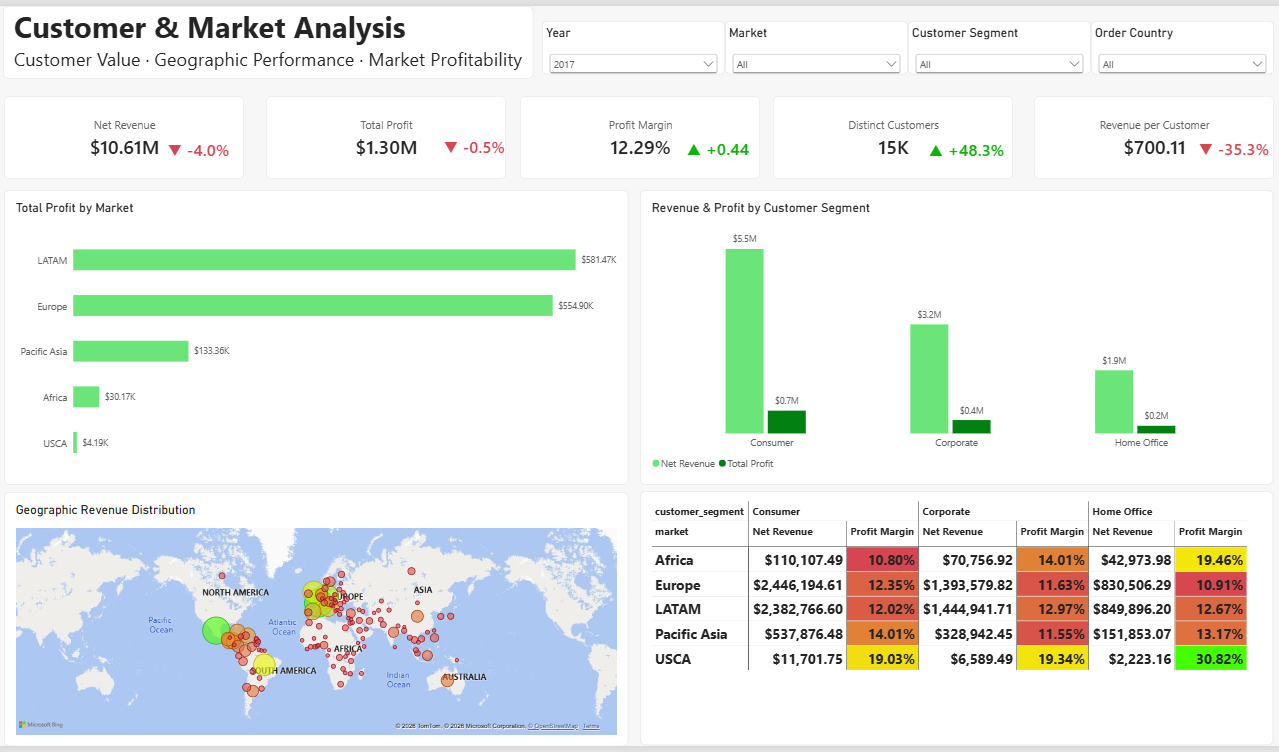

The dashboard page shown, as its layout file describes it:
{"tool":"powerbi","page":{"name":"Customer & Market Analysis","canvas":[1920,1080],"ordinal":4},"visuals":[{"type":"slicer","title":"Year","fields":{"Values":["dim_date.year","dim_date.month_name"]},"box":[835,21.7,266.7,78.3],"z":0},{"type":"slicer","title":"Market","fields":{"Values":["dim_category.category_name"]},"box":[1101.7,21.7,266.7,78.3],"z":1000},{"type":"slicer","title":"Customer Segment","fields":{"Values":["dim_department.department_name"]},"box":[1368.3,21.7,266.7,78.3],"z":2000},{"type":"slicer","title":"Order Country","fields":{"Values":["dim_product.product_name"]},"box":[1635,21.7,266.7,78.3],"z":3000},{"type":"textbox","box":[48,0,774,106],"z":4000},{"type":"cardVisual","fields":{"Data":["_measures.Profit Margin"]},"box":[802.9,131.8,350,121.7],"z":5000,"group":"g4"},{"type":"cardVisual","fields":{"Data":["_measures.Distinct Customers"]},"box":[1172.2,131.8,350,121.7],"z":5000},{"type":"group","id":"g1","title":"Group 6","box":[432.2,130.8,351.1,121.8],"z":6000,"group":"g3"},{"type":"cardVisual","fields":{"Data":["_measures.Total Profit"]},"box":[432.2,130.8,350,121.7],"z":6000,"group":"g1"},{"type":"cardVisual","fields":{"Data":["_measures.Revenue per Customer"]},"box":[1552.2,131.8,350,121.7],"z":6000},{"type":"cardVisual","fields":{"Data":["_measures.Profit Margin YoY"]},"box":[1045.9,177.4,106.3,60.7],"z":6000,"group":"g4"},{"type":"cardVisual","fields":{"Data":["_measures.Net Revenue"]},"box":[49,131.8,350,121.7],"z":7000,"group":"g2"},{"type":"cardVisual","fields":{"Data":["_measures.Distinct Customers YoY"]},"box":[1399.6,177.1,122.3,61.1],"z":7000},{"type":"group","id":"g2","title":"Group 1","box":[49,131.8,349.4,121.1],"z":8000},{"type":"cardVisual","fields":{"Data":["_measures.Total Profit YoY"]},"box":[692,173.4,108.3,60],"z":8000,"group":"g3"},{"type":"group","id":"g3","title":"Group 2","box":[432.2,130.8,368.2,121.8],"z":9000},{"type":"group","id":"g4","title":"Group 3","box":[802.9,131.8,349.4,121.1],"z":10000},{"type":"cardVisual","fields":{"Data":["_measures.Net Revenue YoY"]},"box":[287.6,178.2,108.3,60],"z":10000,"group":"g2"},{"type":"cardVisual","fields":{"Data":["_measures.Revenue per Customer YoY"]},"box":[1793.6,176.4,106.3,60.7],"z":11000},{"type":"clusteredBarChart","title":"Total Profit by Market","fields":{"Y":["_measures.Total Profit"],"Category":["dim_destination.market"]},"box":[49,268.9,911,430.2],"z":12000},{"type":"clusteredColumnChart","title":"Revenue & Profit by Customer Segment","fields":{"Category":["dim_customer.customer_segment"],"Y":["_measures.Net Revenue","_measures.Total Profit"]},"box":[977.4,268.9,923.6,430.2],"z":13000},{"type":"map","title":"Geographic Revenue Distribution","fields":{"Category":["dim_destination.order_country"],"Size":["_measures.Total Sales"]},"box":[49,709,911,371],"z":14000},{"type":"pivotTable","fields":{"Rows":["dim_destination.market"],"Values":["_measures.Net Revenue","_measures.Profit Margin"],"Columns":["dim_customer.customer_segment"]},"box":[978,708,924,371],"z":15000}]}

Visuals, with their boxes on the page's 1920x1080 design canvas (x1, y1, x2, y2). These are canvas units, not pixel positions in the 1279x752 screenshot, which may show the page scaled, cropped or inside an application window:
"Year" slicer: detection(835, 22, 1102, 100)
"Market" slicer: detection(1102, 22, 1368, 100)
"Customer Segment" slicer: detection(1368, 22, 1635, 100)
"Order Country" slicer: detection(1635, 22, 1902, 100)
textbox: detection(48, 0, 822, 106)
cardVisual - _measures.Profit Margin: detection(803, 132, 1153, 254)
cardVisual - _measures.Distinct Customers: detection(1172, 132, 1522, 254)
"Group 6" group: detection(432, 131, 783, 253)
cardVisual - _measures.Total Profit: detection(432, 131, 782, 252)
cardVisual - _measures.Revenue per Customer: detection(1552, 132, 1902, 254)
cardVisual - _measures.Profit Margin YoY: detection(1046, 177, 1152, 238)
cardVisual - _measures.Net Revenue: detection(49, 132, 399, 254)
cardVisual - _measures.Distinct Customers YoY: detection(1400, 177, 1522, 238)
"Group 1" group: detection(49, 132, 398, 253)
cardVisual - _measures.Total Profit YoY: detection(692, 173, 800, 233)
"Group 2" group: detection(432, 131, 800, 253)
"Group 3" group: detection(803, 132, 1152, 253)
cardVisual - _measures.Net Revenue YoY: detection(288, 178, 396, 238)
cardVisual - _measures.Revenue per Customer YoY: detection(1794, 176, 1900, 237)
"Total Profit by Market" clusteredBarChart: detection(49, 269, 960, 699)
"Revenue & Profit by Customer Segment" clusteredColumnChart: detection(977, 269, 1901, 699)
"Geographic Revenue Distribution" map: detection(49, 709, 960, 1080)
pivotTable - dim_destination.market x _measures.Net Revenue: detection(978, 708, 1902, 1079)
